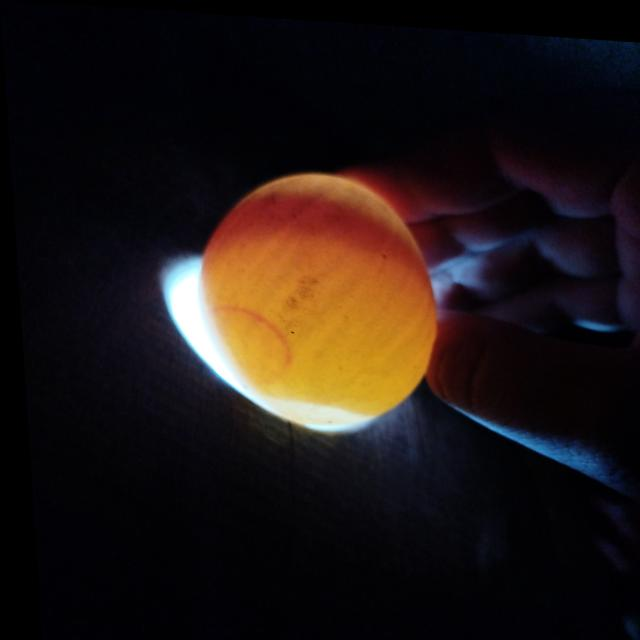Camara de Ar: (257, 396, 365, 422)
Gema Quebrada: (199, 187, 429, 302)
